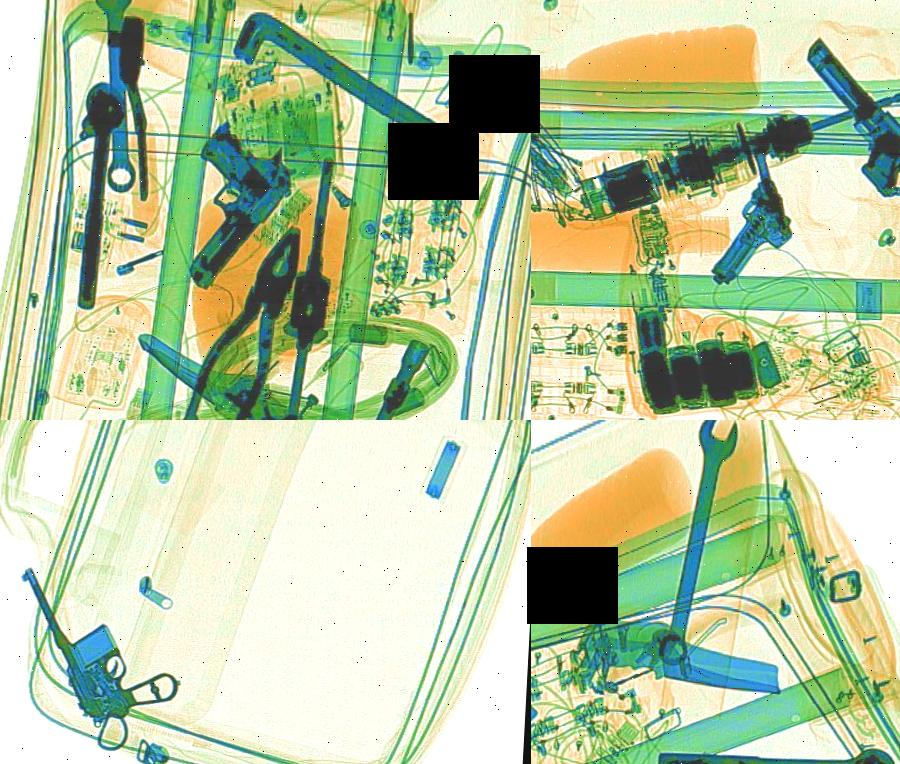Gun: (9, 527, 190, 735), (132, 93, 308, 296), (749, 29, 900, 193), (674, 142, 811, 286)
Pliers: (161, 200, 328, 420), (176, 375, 329, 420)
Wrench: (651, 420, 741, 670), (80, 0, 155, 196)
